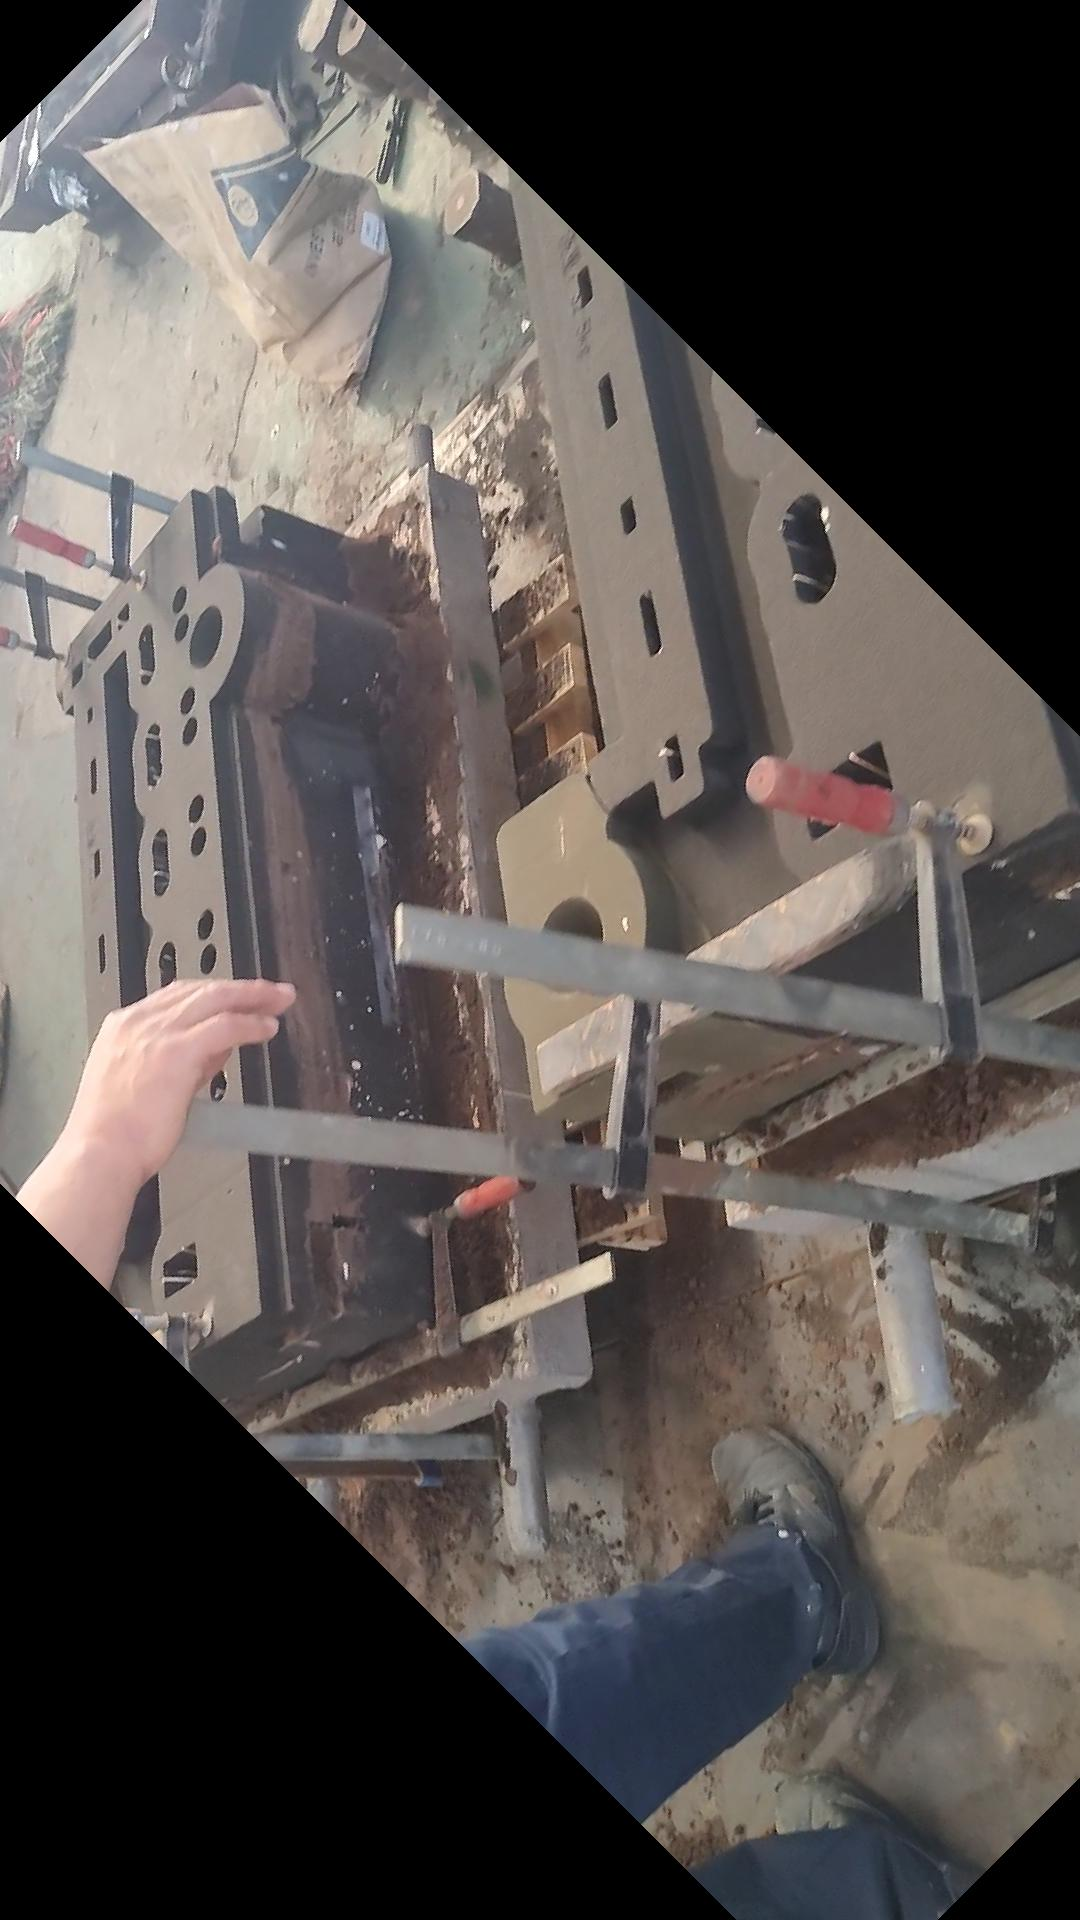pouring hole: (534, 894, 604, 993), (189, 607, 222, 673)
